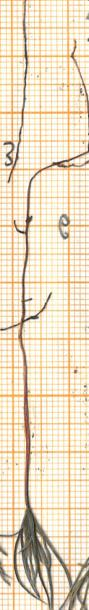flower: (10, 505, 70, 602)
root: (14, 153, 89, 301)
stem: (14, 305, 42, 503)
